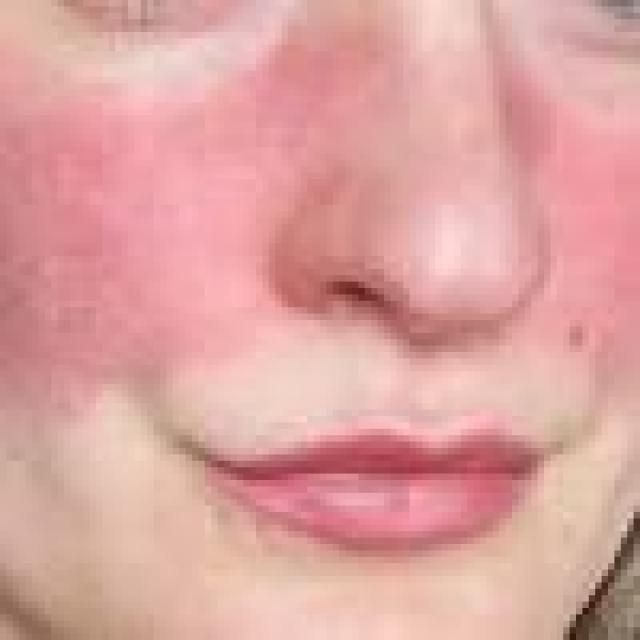Rosacea: (0, 34, 385, 380), (490, 44, 640, 376)
